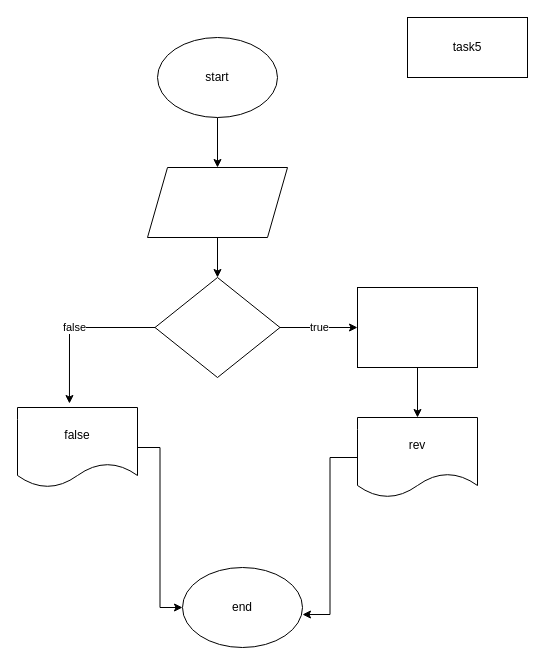
The diagram is 545 pixels wide and 665 high, and some of its shapes have lost their labels. Each missing label, with the box of its shape:
int num=381 rev=0 rem: (146, 166, 288, 238)
num>0: (154, 276, 280, 378)
rem=num%10 rev=rev+rem num=num/10: (356, 286, 478, 368)
